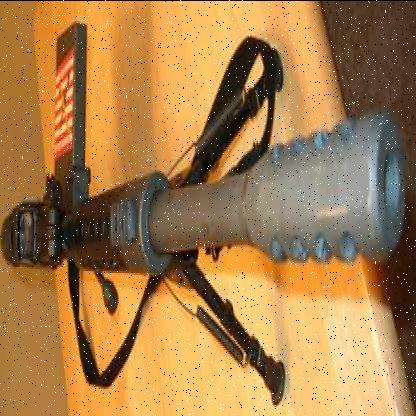rifle: (0, 16, 415, 323)
